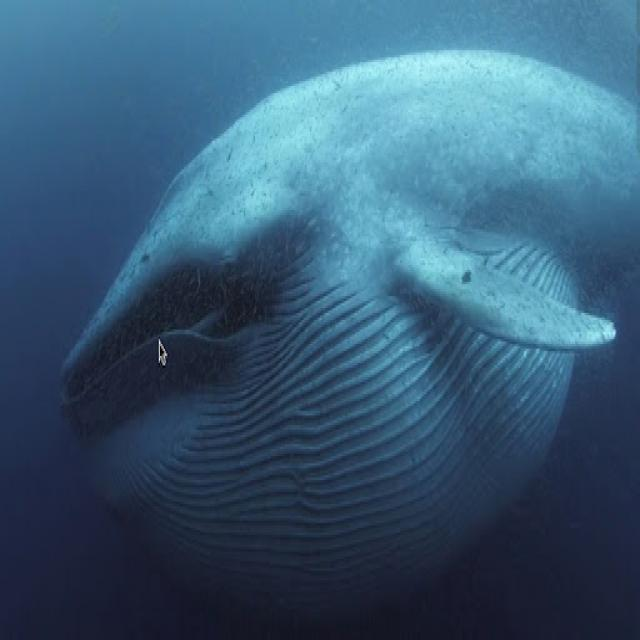blue_whale: (11, 45, 640, 609)
